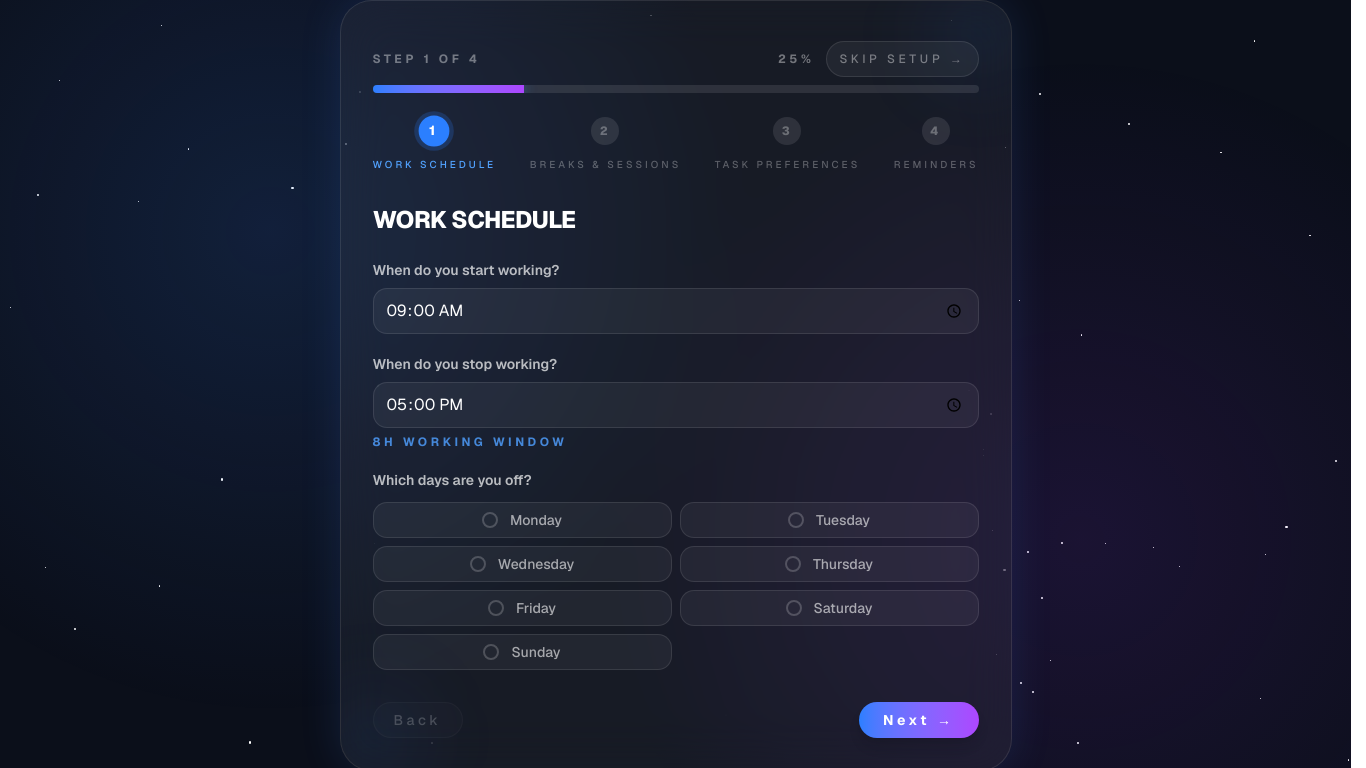
Quiz Page › updates Step 4 reminderDays and pluralisation
The width and height of the screenshot is (1366, 768).
Click the button "Next →" at (919, 720), box [859, 702, 978, 738]
(page scrolled)
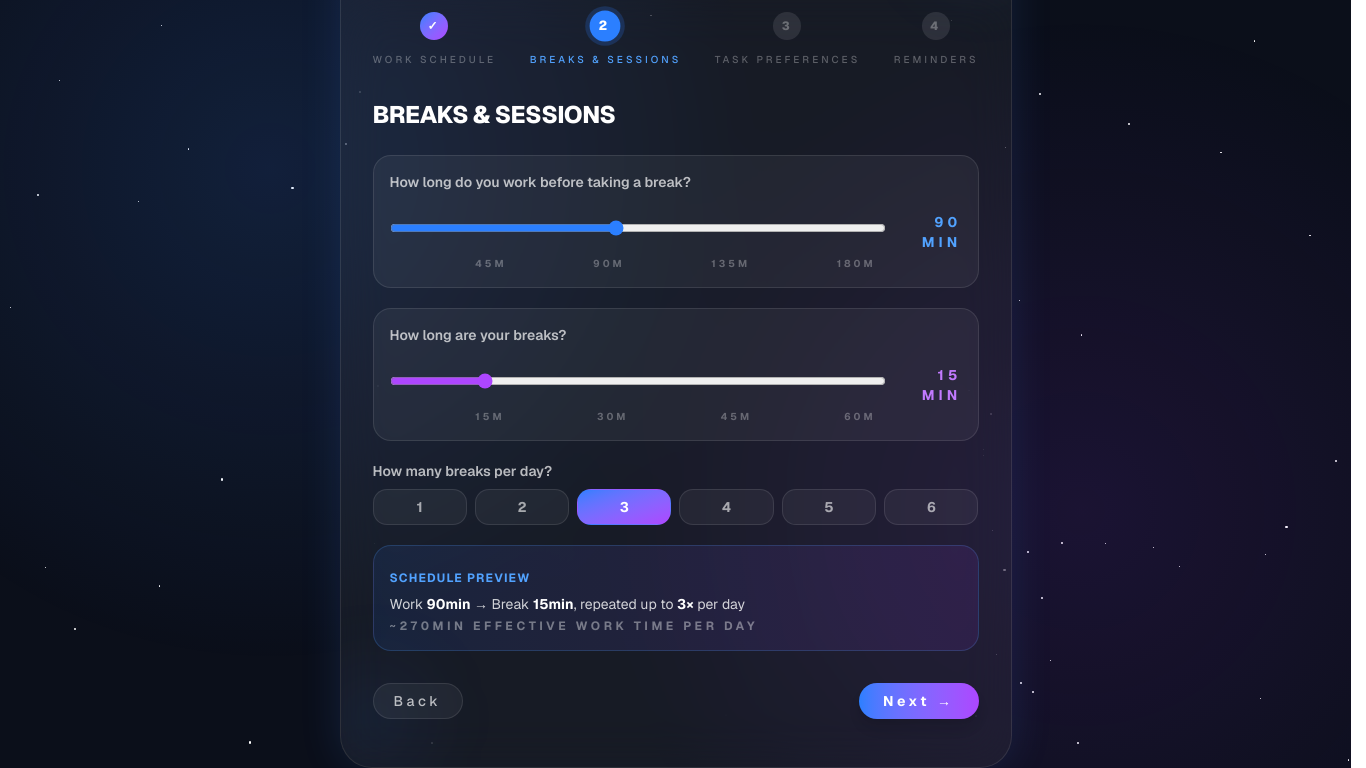
Click the button "Next →" at (919, 701), box [859, 683, 978, 719]
(page scrolled)
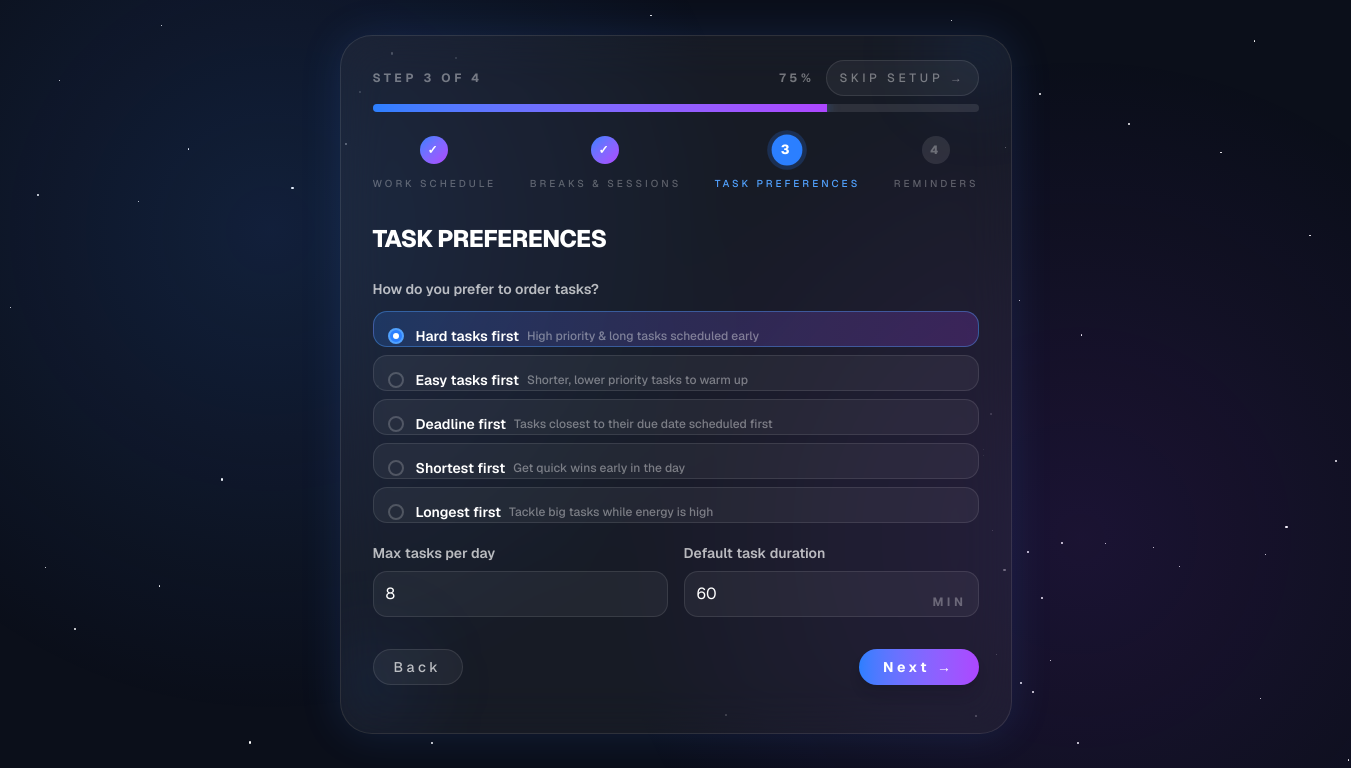
Click the button "Next →" at (919, 666), box [859, 648, 978, 684]
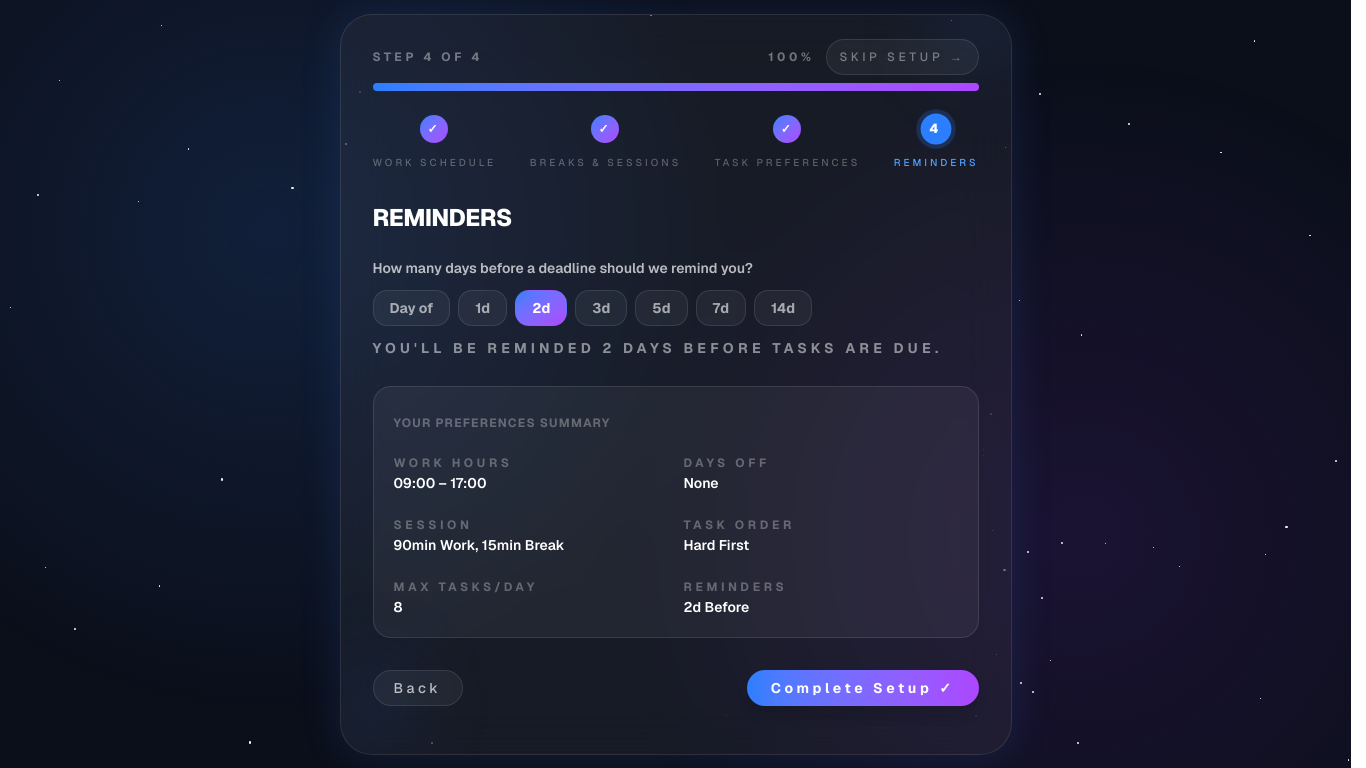
Click the button "1d" at (483, 308), box [458, 290, 507, 326]
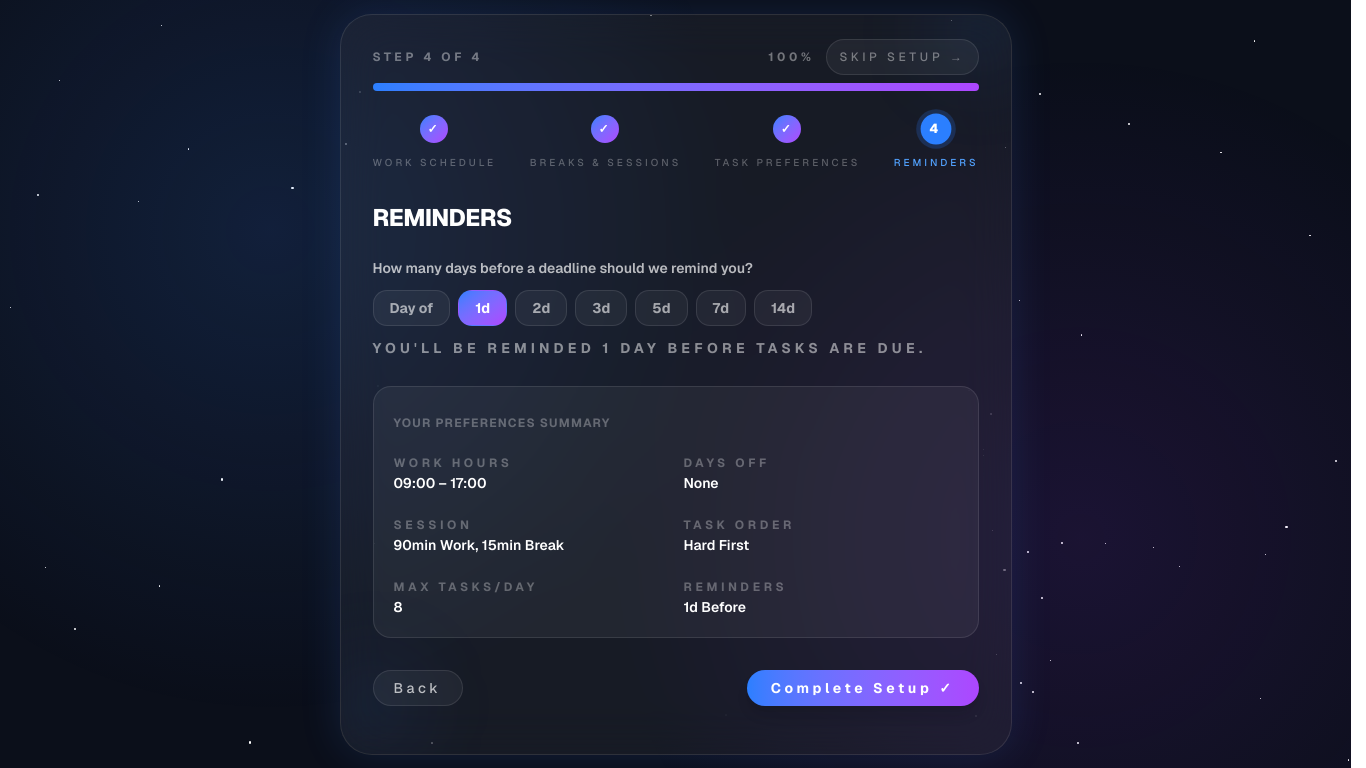
Check: the text "You'll be reminded 1 day before tasks are due." is shown, box [372, 338, 978, 358]
Click the button "Day of" at (411, 308), box [372, 290, 450, 326]
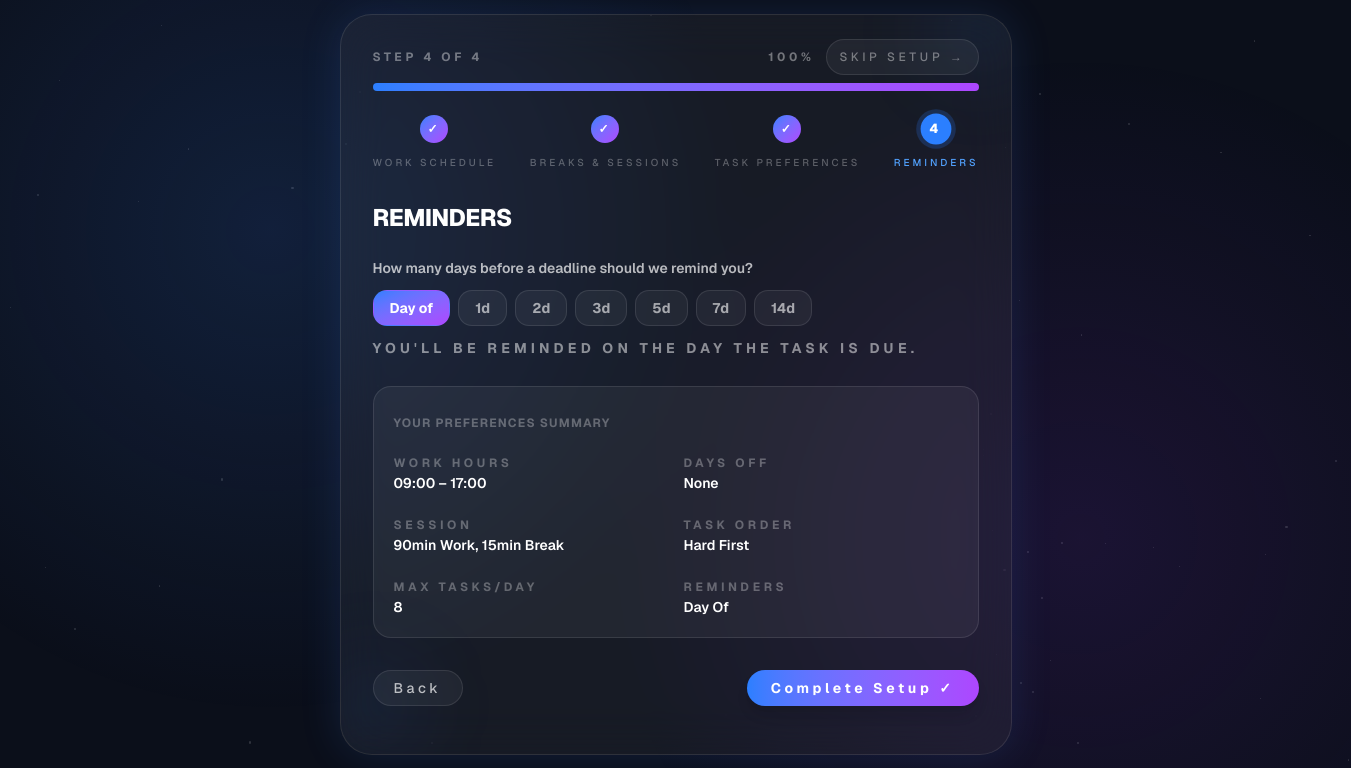
Check: the text "You'll be reminded on the day the task is due." is shown, box [372, 338, 978, 358]
